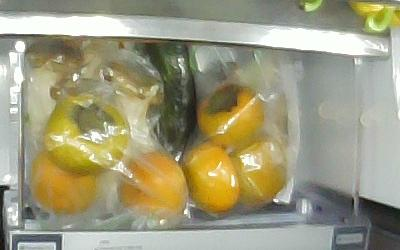persimmon_vinyl: (42, 95, 130, 173), (117, 153, 189, 220), (224, 133, 290, 206), (30, 150, 101, 215), (195, 85, 265, 146), (182, 143, 240, 214)
